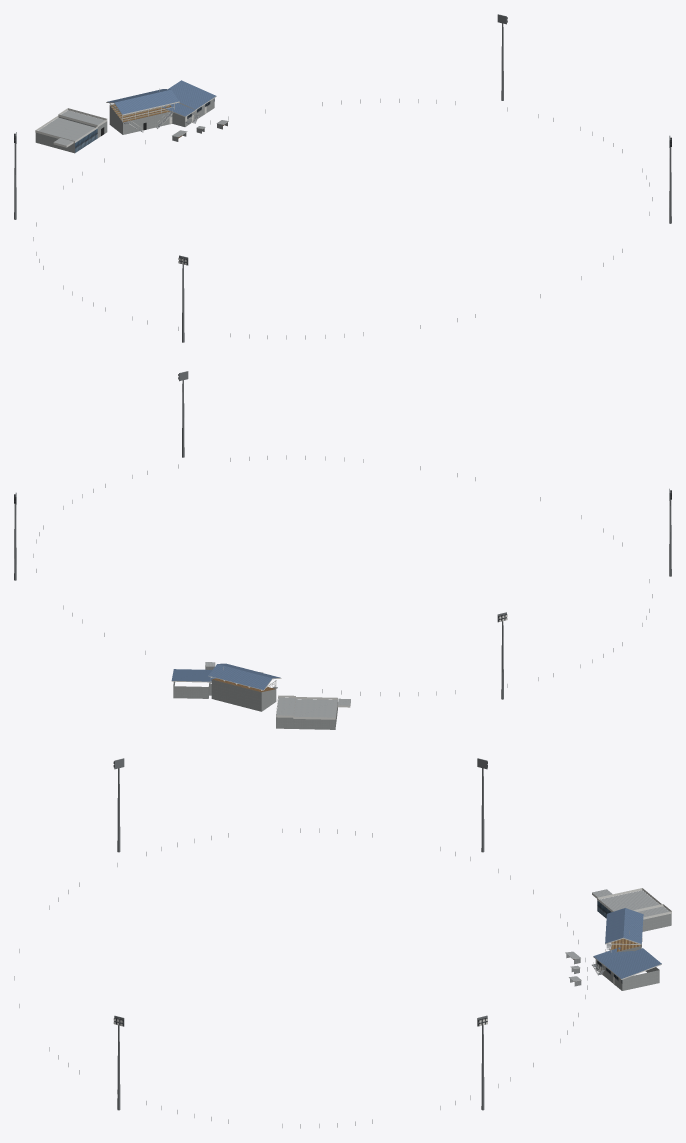
File: oval_t4_country.glb
3 views of the same model, one above another, from view 1: azimuth 30°, elevation 25°; view 2: azimuth 150°, elevation 25°; view 3: azimuth 270°, elevation 25° (orthographic). The views are drawn at different scales.
Visible parts, largest first — view 1: buildings, stands, lights; view 2: buildings, stands, lights; view 3: buildings, stands, lights.
Part boxes in pixels (x1,y1,x2,y2): buildings: [35, 80, 216, 153]; stands: [106, 89, 179, 134]; lights: [14, 14, 671, 342]; buildings: [171, 669, 350, 729]; stands: [208, 663, 281, 711]; lights: [14, 371, 671, 699]; buildings: [592, 888, 671, 990]; stands: [605, 908, 643, 952]; lights: [113, 758, 629, 1110].
Size of what is drawn, in the model's own units: 166 by 24.2 by 156.
14 materials, 14 textured.
